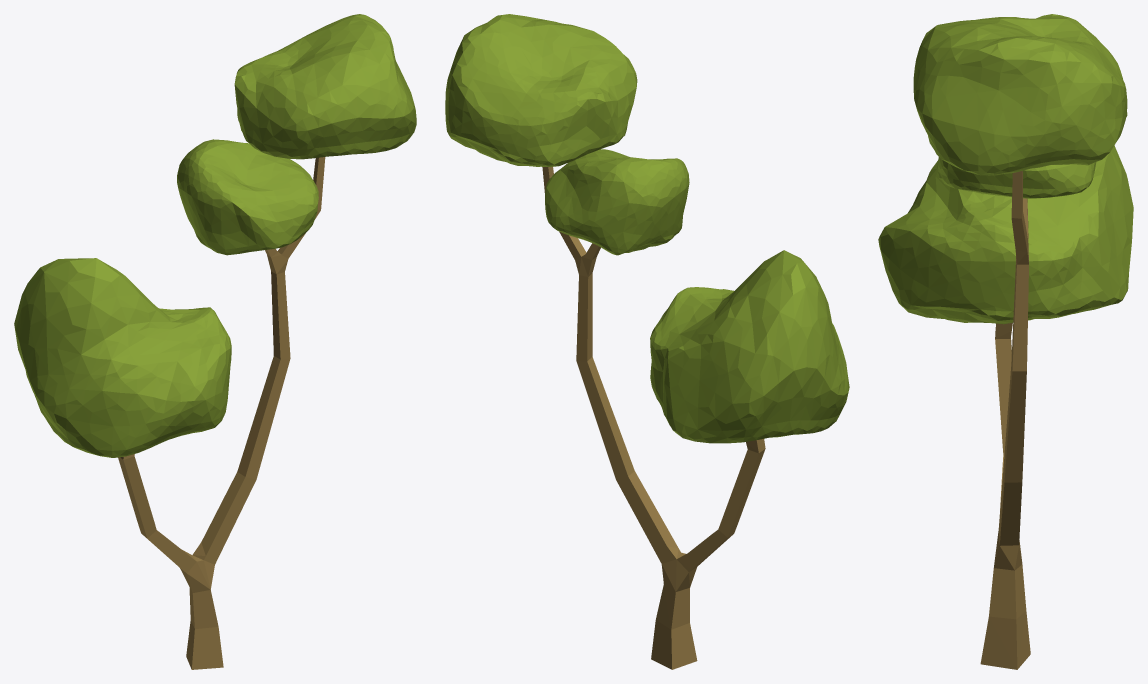
File: tree_tall03.fbx
3 renders of one model, left to right at view 1: azimuth 30°, elevation 25°; view 2: azimuth 150°, elevation 25°; view 3: azimuth 270°, elevation 25°, orthographic. The views are drawn at different scales.
Visible parts, largest first — view 1: tree_tall03_LOD0; view 2: tree_tall03_LOD0; view 3: tree_tall03_LOD0.
Boxes of the visible parts, x1,y1,x2,y2 form: tree_tall03_LOD0: [14, 14, 416, 669]; tree_tall03_LOD0: [445, 14, 849, 669]; tree_tall03_LOD0: [878, 14, 1133, 669].
Size of what is drawn, in the model's own units: 700 by 1077 by 346.
